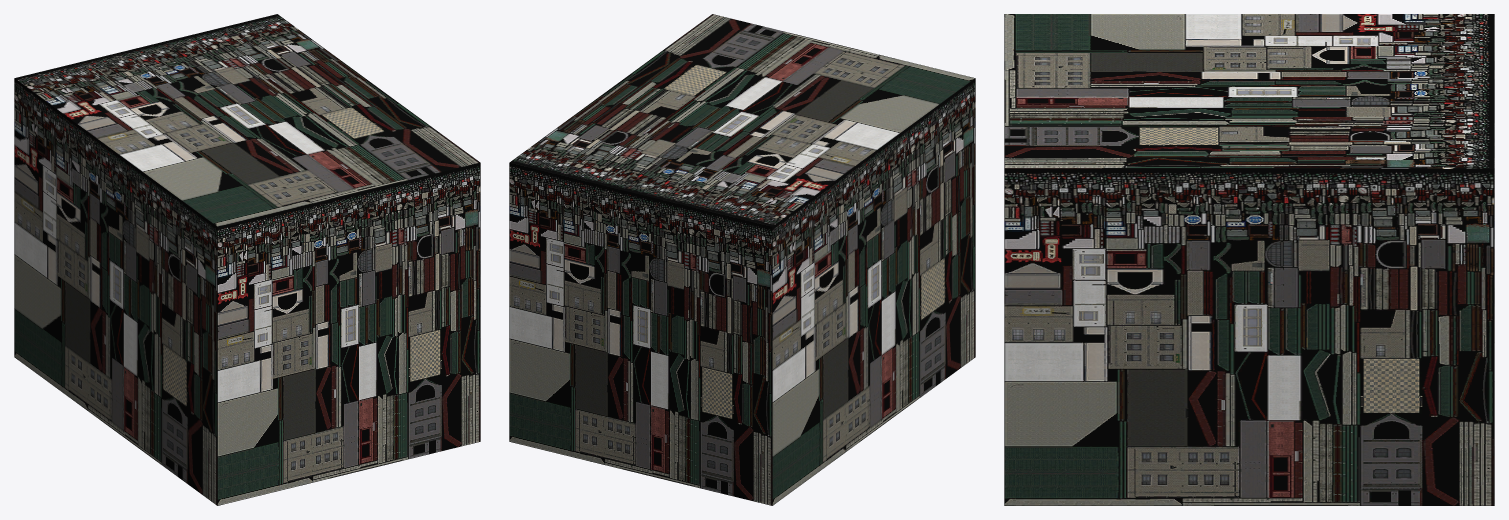
The model's file is Interiors_003.DAE.
3 views of the same model, side by side, from view 1: azimuth 30°, elevation 25°; view 2: azimuth 150°, elevation 25°; view 3: azimuth 270°, elevation 25° (orthographic). The views are drawn at different scales.
Parts seen in each view (by area): view 1: bounds; view 2: bounds; view 3: bounds.
Boxes of the visible parts, x1,y1,x2,y2 form: bounds: (14,14,480,505); bounds: (509,14,975,505); bounds: (1004,14,1494,505).
Bounding box in the file's own units: 1666 × 2228 × 1691.
